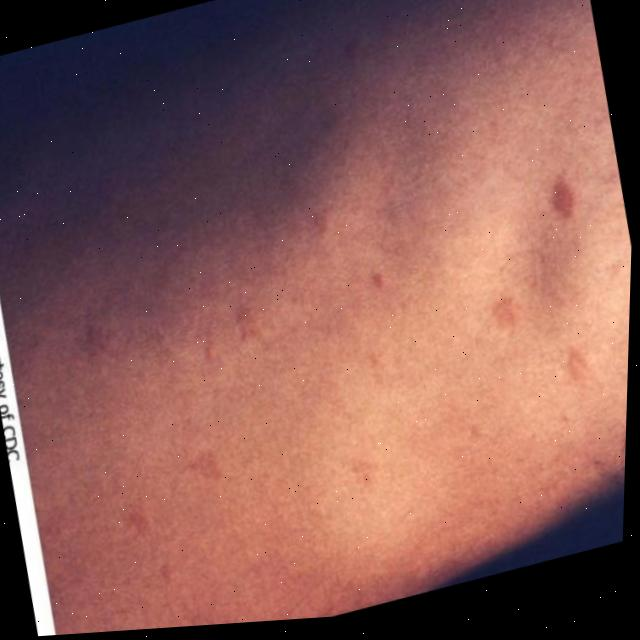Rosacea: (49, 115, 635, 635)
